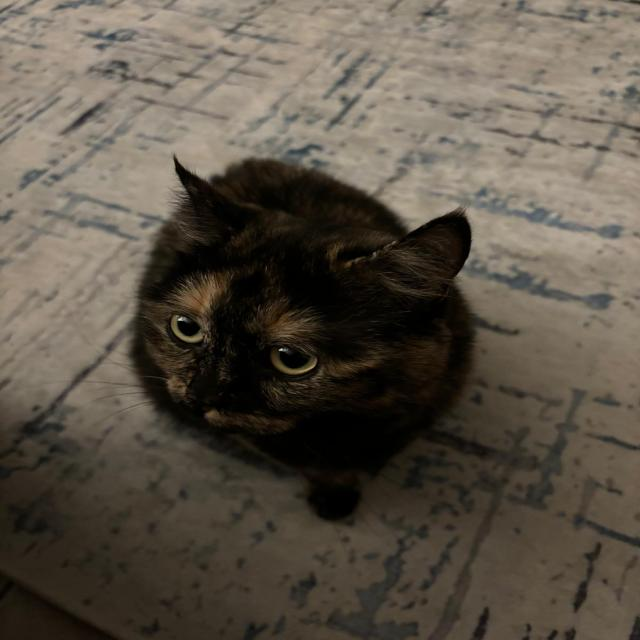authorized: (94, 153, 478, 522)
